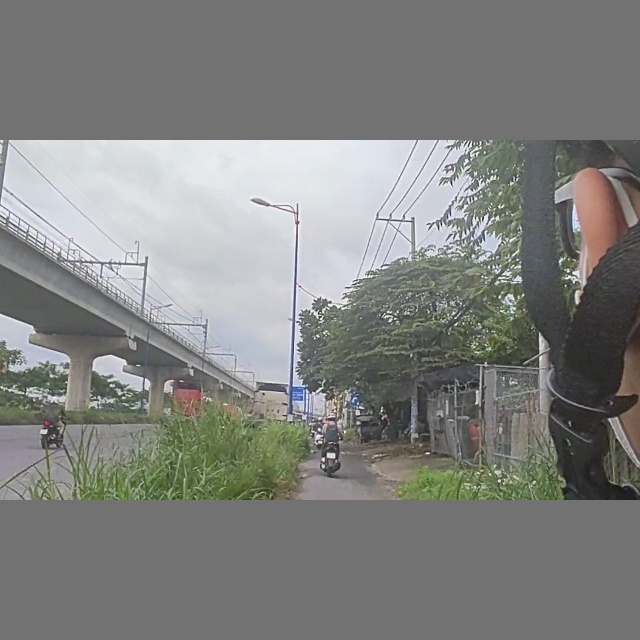I.409: (349, 393, 363, 407)
